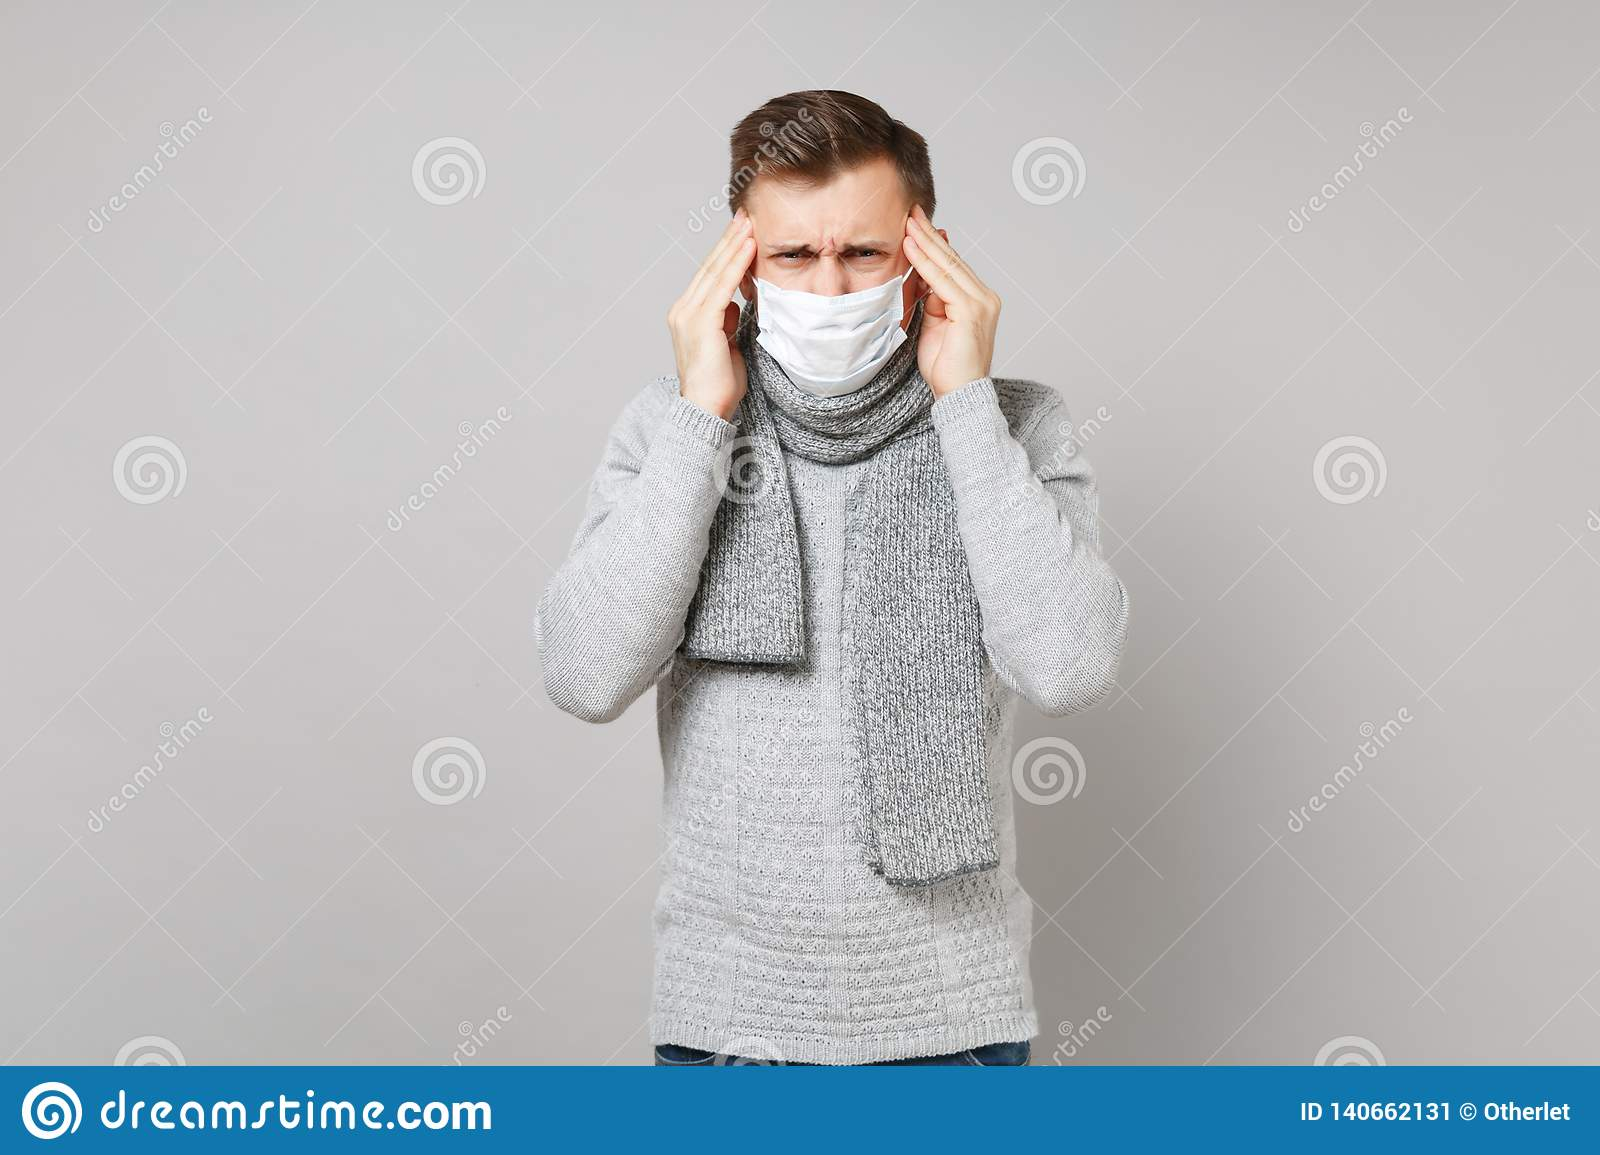mask: (748, 277, 911, 405)
